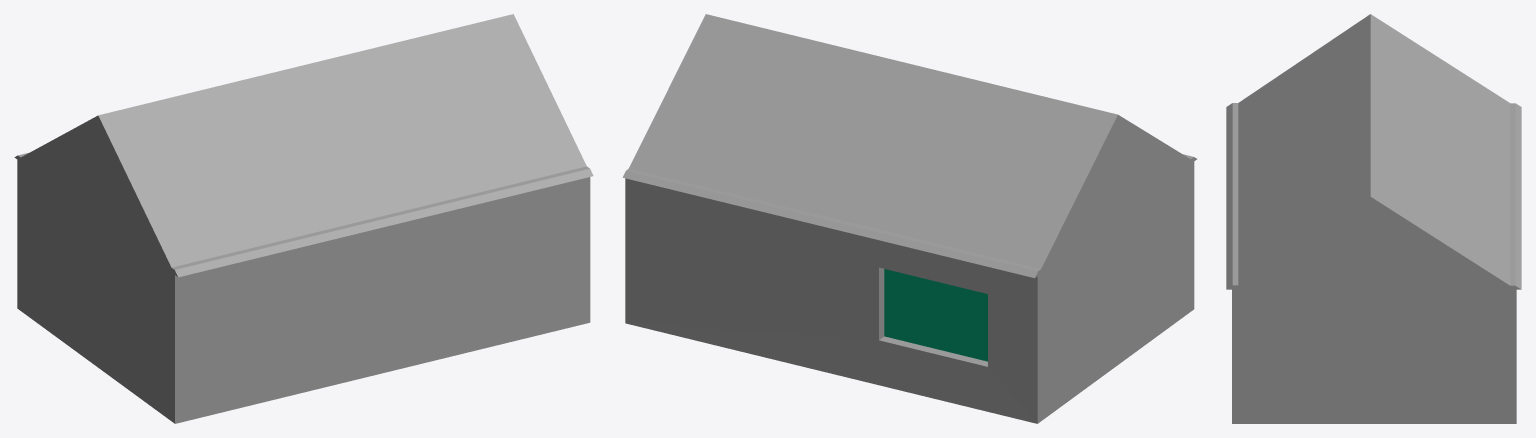
File: House_Roof_01.fbx
The picture shows the model from 3 angles, left to right: view 1: azimuth 30°, elevation 25°; view 2: azimuth 150°, elevation 25°; view 3: azimuth 270°, elevation 25°; orthographic projection. The views are drawn at different scales.
Visible parts, largest first — view 1: pCube55; view 2: pCube55; view 3: pCube55.
Boxes of the visible parts, x1,y1,x2,y2 form: pCube55: [14, 14, 593, 423]; pCube55: [622, 14, 1196, 423]; pCube55: [1226, 14, 1521, 423].
Bounding box in the file's own units: 28.97 × 16.82 × 19.82.
